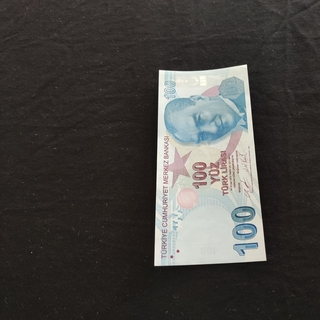100TLFront: (154, 64, 267, 266)
